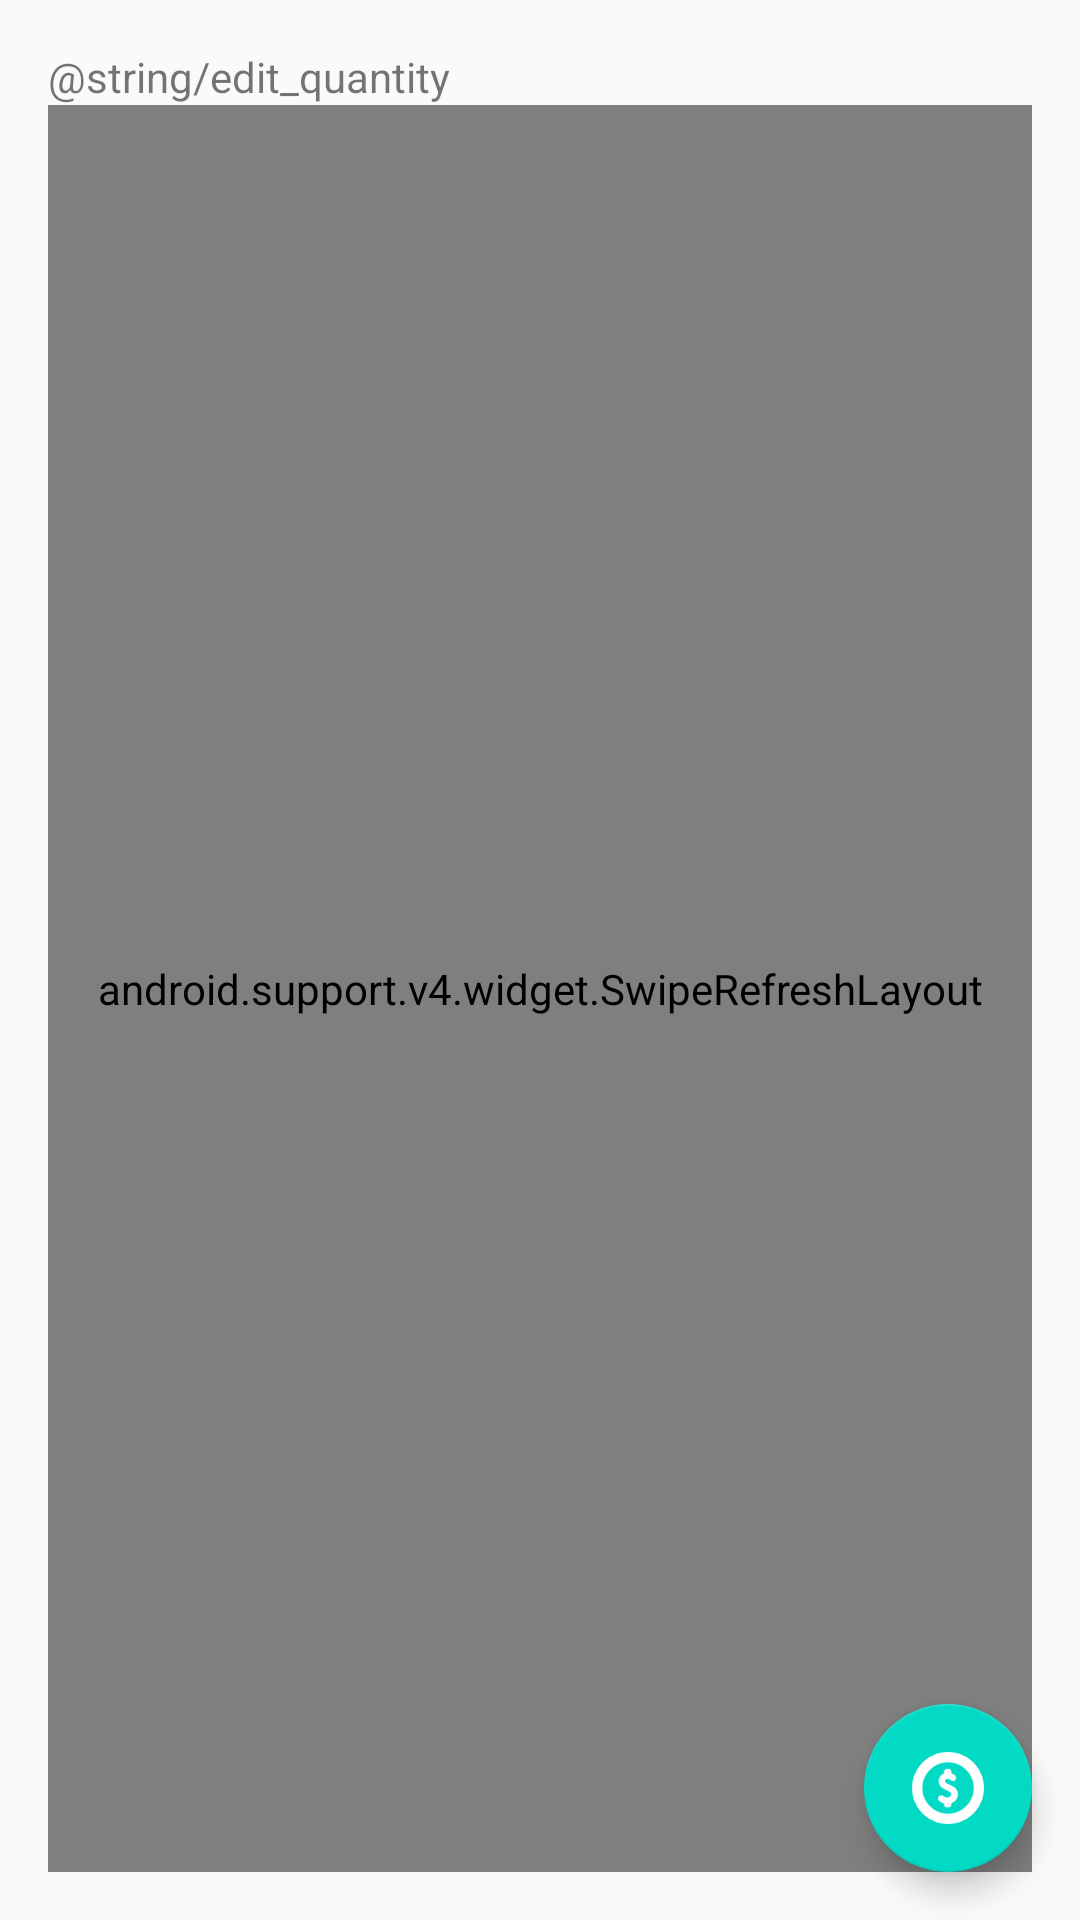

Icon click points for this 1080x1920 phone screenshot, format (x,y):
pay: (948,1788)
